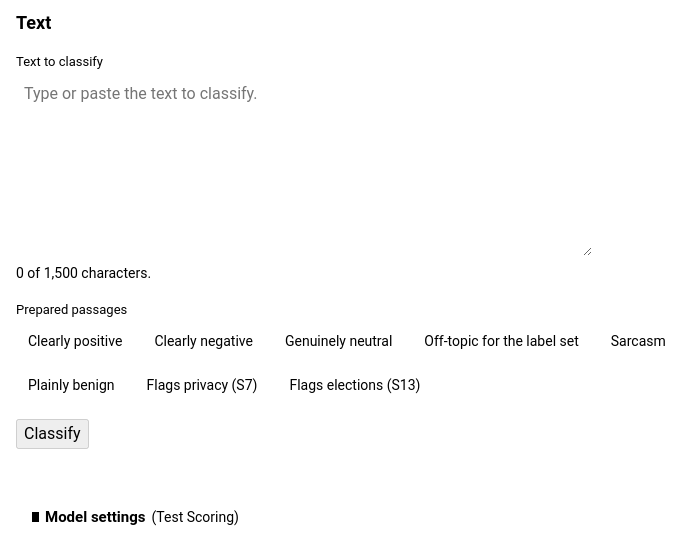
the composer › reports the character count against the limit
Type "hello" into the text box with id "classify-text-input". click: [304, 166]
box: x1=16 y1=76 x2=592 y2=256
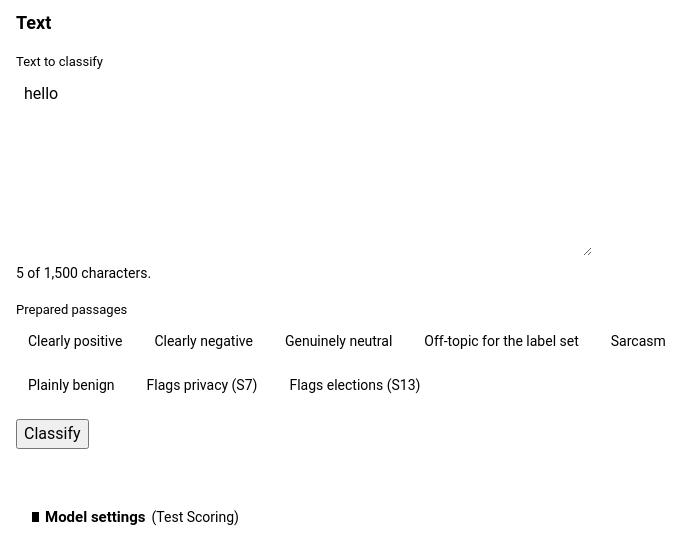
Expected: the text with id "classify-text-hint" shows "5 of 1,500 characters", x1=16 y1=264 x2=151 y2=280
